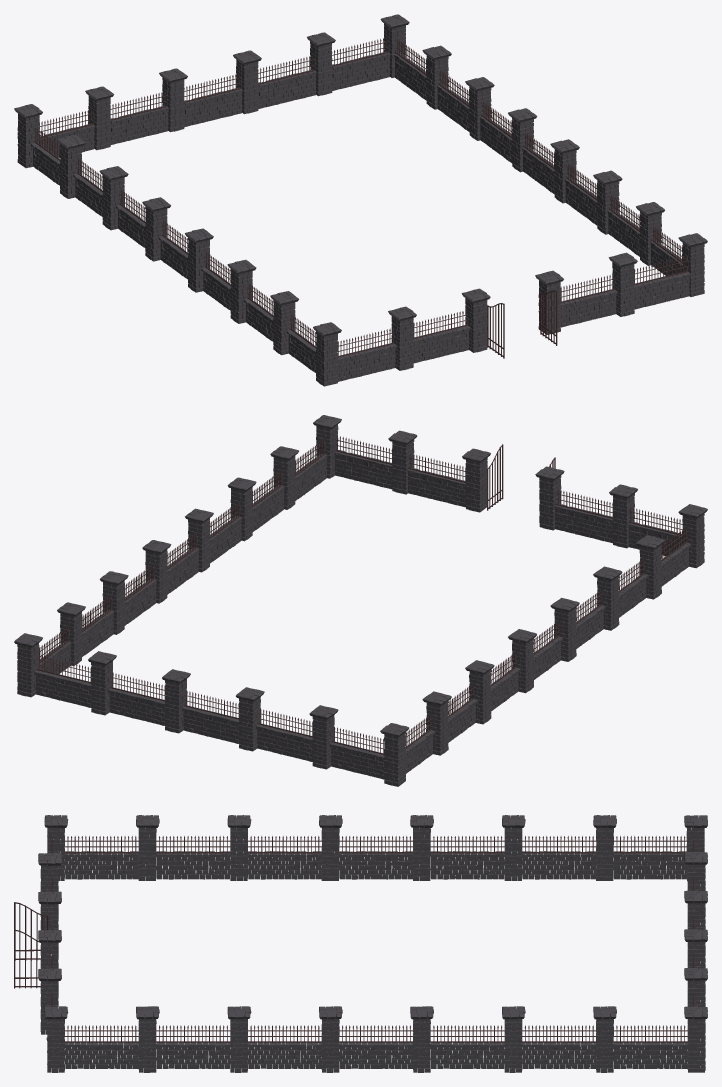
Rendered from cemetry_bigwall.fbx.
3 views of the same model, one above another, from view 1: azimuth 30°, elevation 25°; view 2: azimuth 150°, elevation 25°; view 3: azimuth 270°, elevation 25° (orthographic). The views are drawn at different scales.
Parts seen in each view (by area): view 1: cemetry_wall3; view 2: cemetry_wall3; view 3: cemetry_wall3.
Boxes of the visible parts, x1=… form: cemetry_wall3: x1=14, y1=14, x2=707, y2=386; cemetry_wall3: x1=14, y1=415, x2=707, y2=786; cemetry_wall3: x1=14, y1=815, x2=707, y2=1072.
Size of the model in its own units: 5521 by 752 by 8037.
